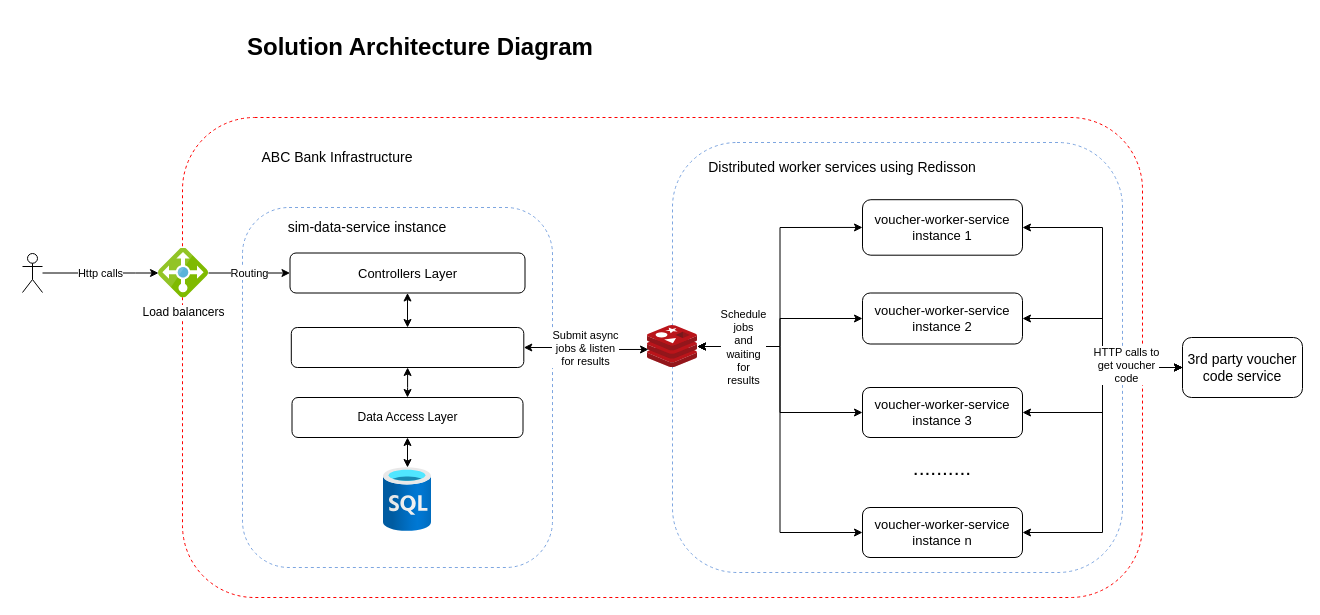
Image size: 1320x615. Some labels were removed from this diagram. Each missing label, with the centre of its shape:
Database: point (407, 499)
Redis Server Deployment: point (672, 346)
Services Layer: point (407, 347)
Users: point (32, 272)
